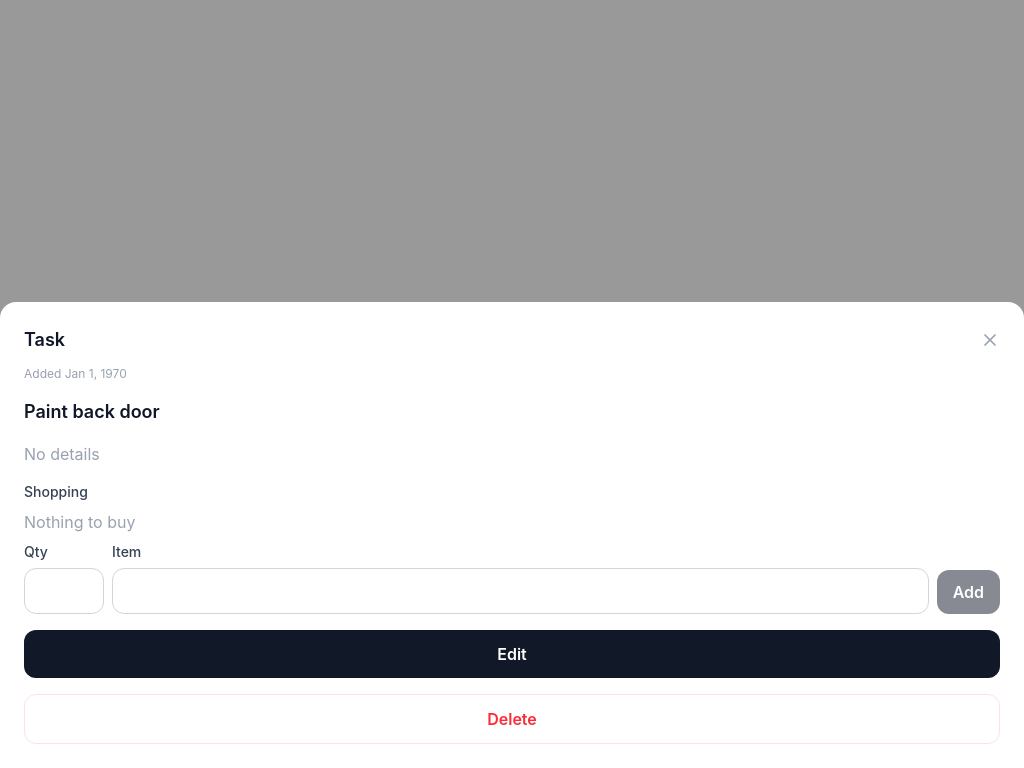
Test: EditTaskSheet › starts from the latest saved task each time it opens
Click the button "Edit": (512, 654) x1=24 y1=630 x2=1000 y2=678
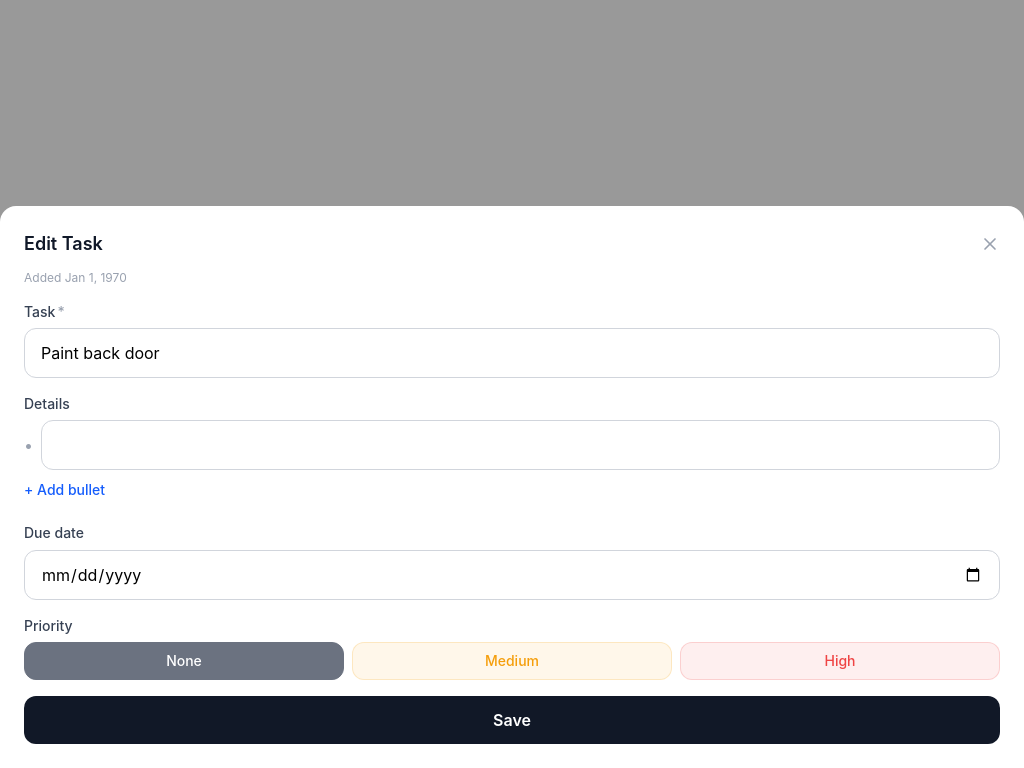
Expected: the field labelled "Task" holds "Paint back door", x1=24 y1=328 x2=1000 y2=378
